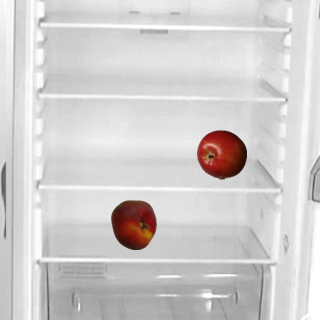Apple Braeburn: (196, 129, 246, 179)
Nectarine Flat: (108, 199, 158, 249)
